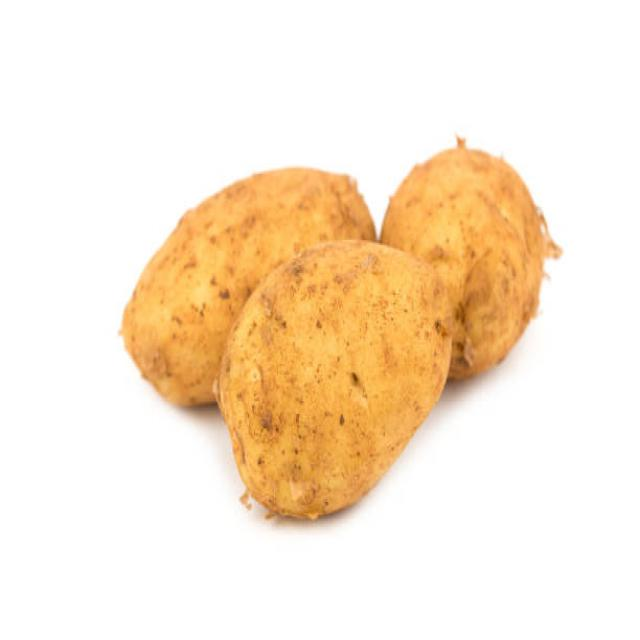Potato: (213, 237, 455, 527), (384, 141, 553, 288), (118, 190, 214, 412)
